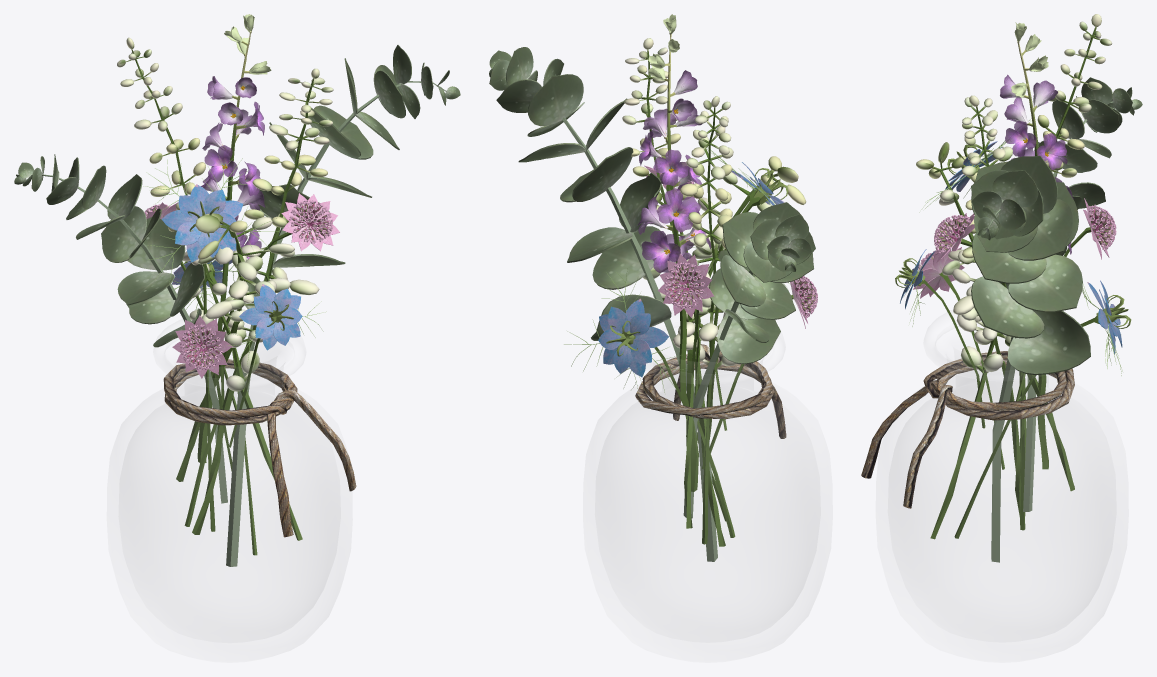
Rendered from obj_flowers_2aa726.glb.
3 renders of one model, left to right at view 1: azimuth 30°, elevation 25°; view 2: azimuth 150°, elevation 25°; view 3: azimuth 270°, elevation 25°, orthographic. The views are drawn at different scales.
Visible parts, largest first — view 1: obj_flowers_2aa726; view 2: obj_flowers_2aa726; view 3: obj_flowers_2aa726.
Part boxes in pixels (x1=…): obj_flowers_2aa726: x1=14, y1=14, x2=460, y2=642; obj_flowers_2aa726: x1=489, y1=14, x2=820, y2=642; obj_flowers_2aa726: x1=861, y1=14, x2=1142, y2=642.
Size of the model in its own units: 0.2525 by 0.4 by 0.1609.
21 materials, 17 textured.
